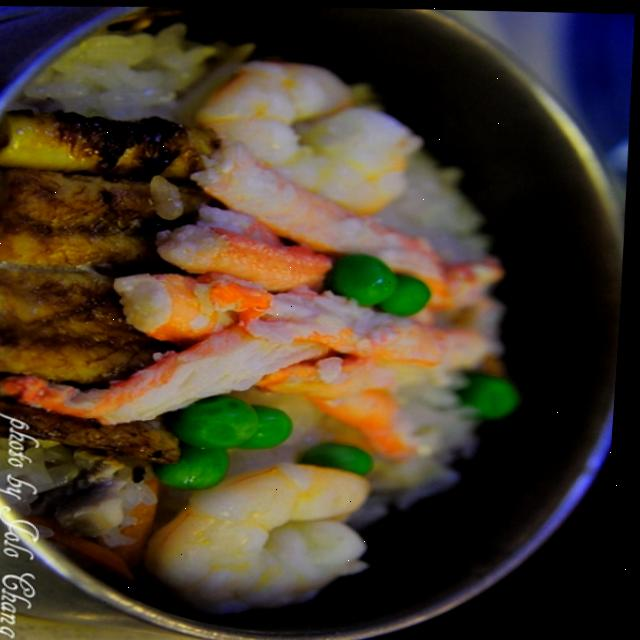鸡肉料理 含炸鸡: (0, 0, 615, 629)
